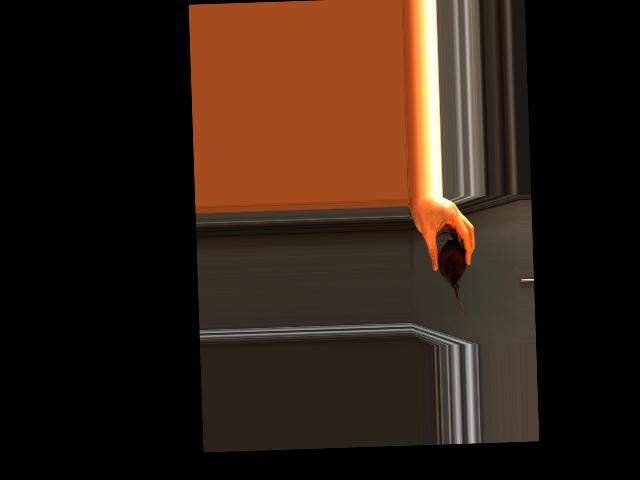beet: (436, 232, 467, 320)
